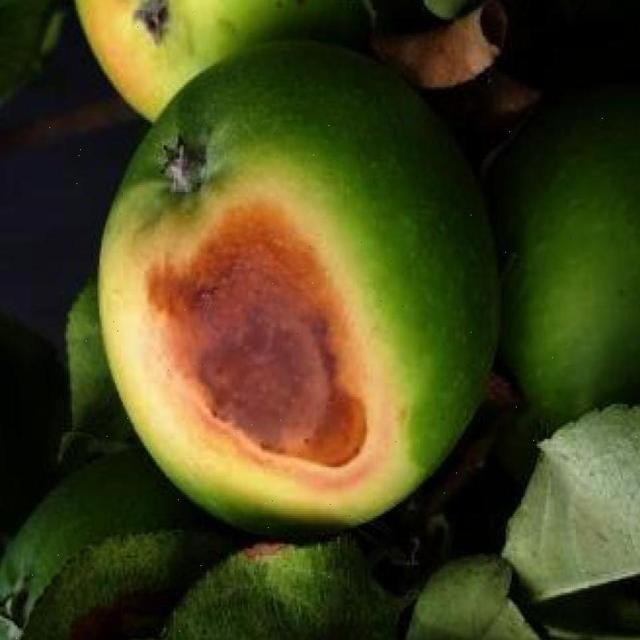Sunscald Fruit: (74, 132, 265, 330)
